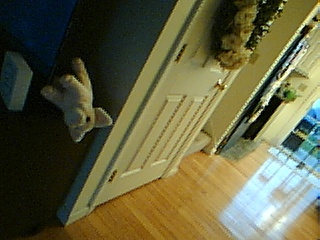piggy: (40, 56, 114, 144)
